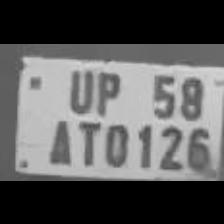0: (99, 116, 129, 166)
1: (130, 116, 154, 168)
2: (153, 118, 183, 170)
5: (145, 68, 175, 118)
6: (182, 120, 212, 172)
8: (174, 70, 206, 118)
A: (41, 113, 73, 165)
P: (91, 64, 123, 114)
T: (70, 115, 100, 165)
U: (64, 62, 94, 112)
